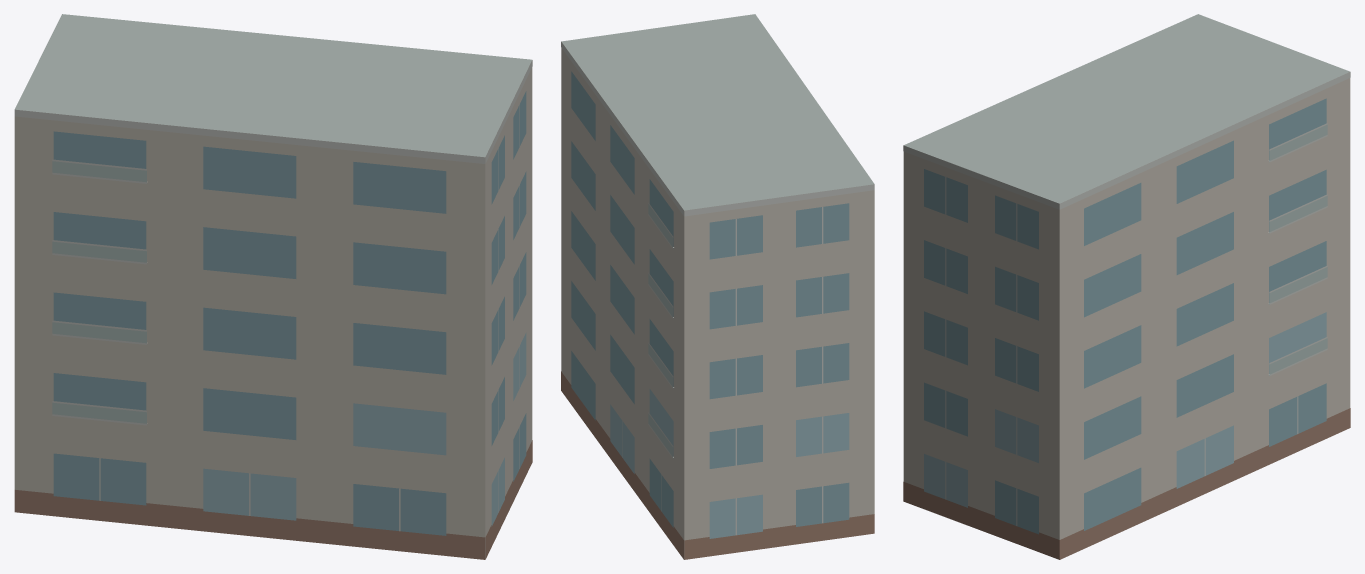
File: survey-upis-32960673.glb
3 views of the same model, side by side, from view 1: azimuth 30°, elevation 25°; view 2: azimuth 150°, elevation 25°; view 3: azimuth 270°, elevation 25° (orthographic). The views are drawn at different scales.
Visible parts, largest first — view 1: survey-upis-32960673.tmp; view 2: survey-upis-32960673.tmp; view 3: survey-upis-32960673.tmp.
Part boxes in pixels (left/top/right/bottom): survey-upis-32960673.tmp: left=14, top=14, right=532, bottom=559; survey-upis-32960673.tmp: left=561, top=14, right=874, bottom=559; survey-upis-32960673.tmp: left=903, top=14, right=1350, bottom=559.
Size of the model in its own units: 16.46 by 14.4 by 16.39.
